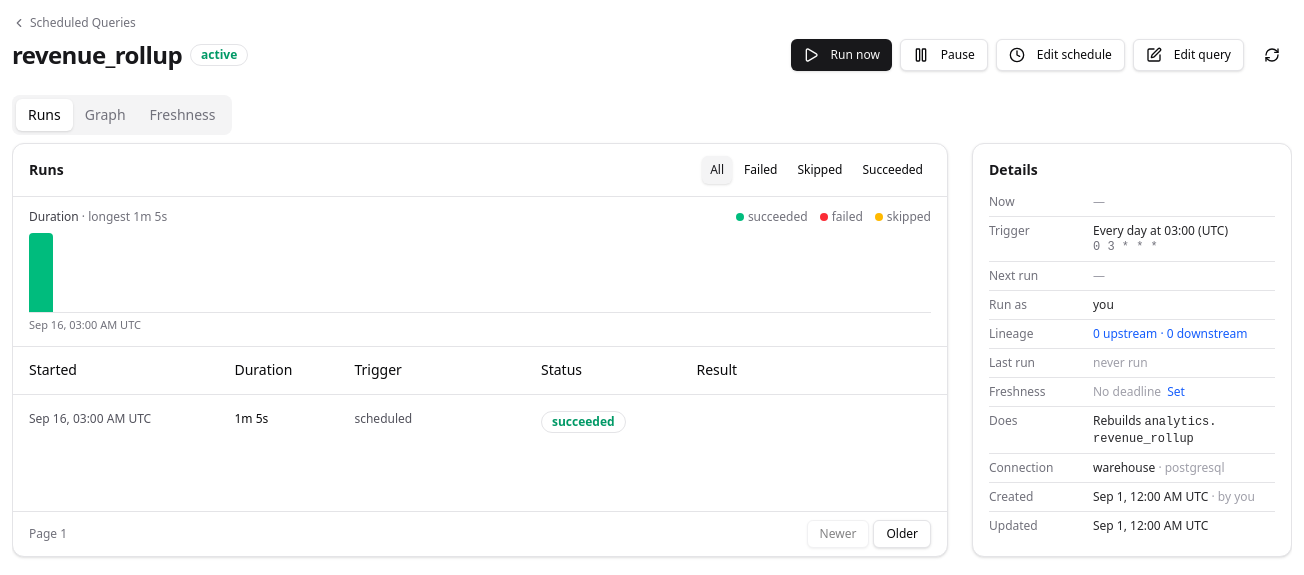
per-model schedule page › pages back with the server's cursor, and Newer returns to the first page
Click the button "Older" at (902, 534), box x1=873 y1=520 x2=931 y2=548
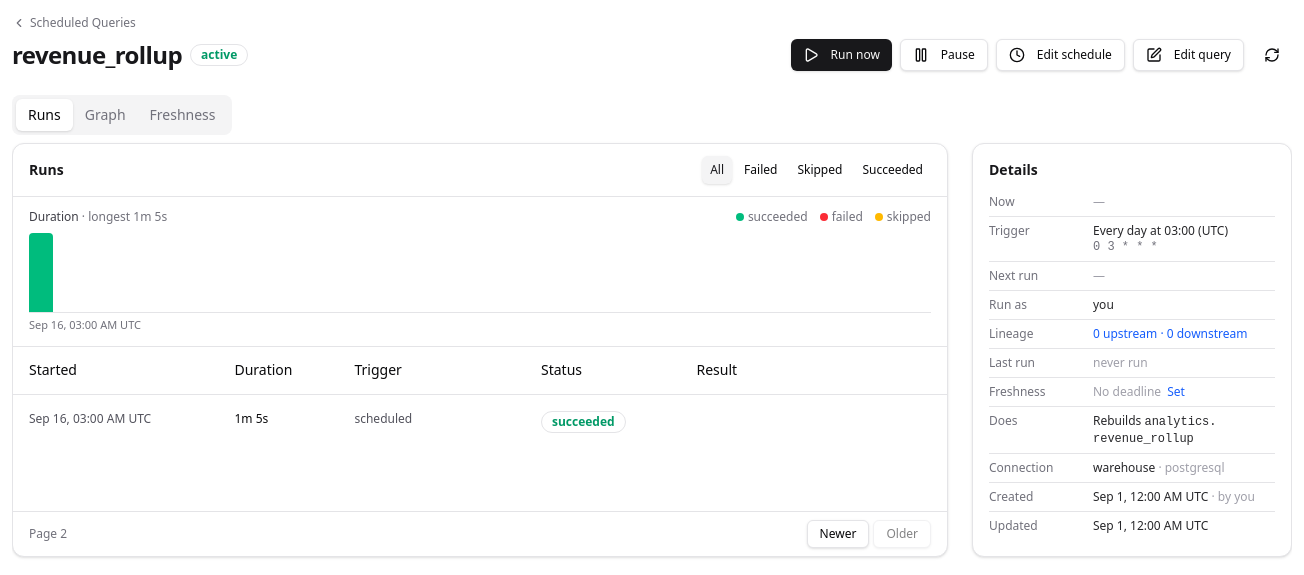
Now the text "Page 2" is shown, box x1=29 y1=526 x2=67 y2=542
Now the button "Newer" is enabled
Now the button "Older" is disabled, box x1=873 y1=520 x2=931 y2=548
Click the button "Newer" at (838, 534), box x1=807 y1=520 x2=869 y2=548
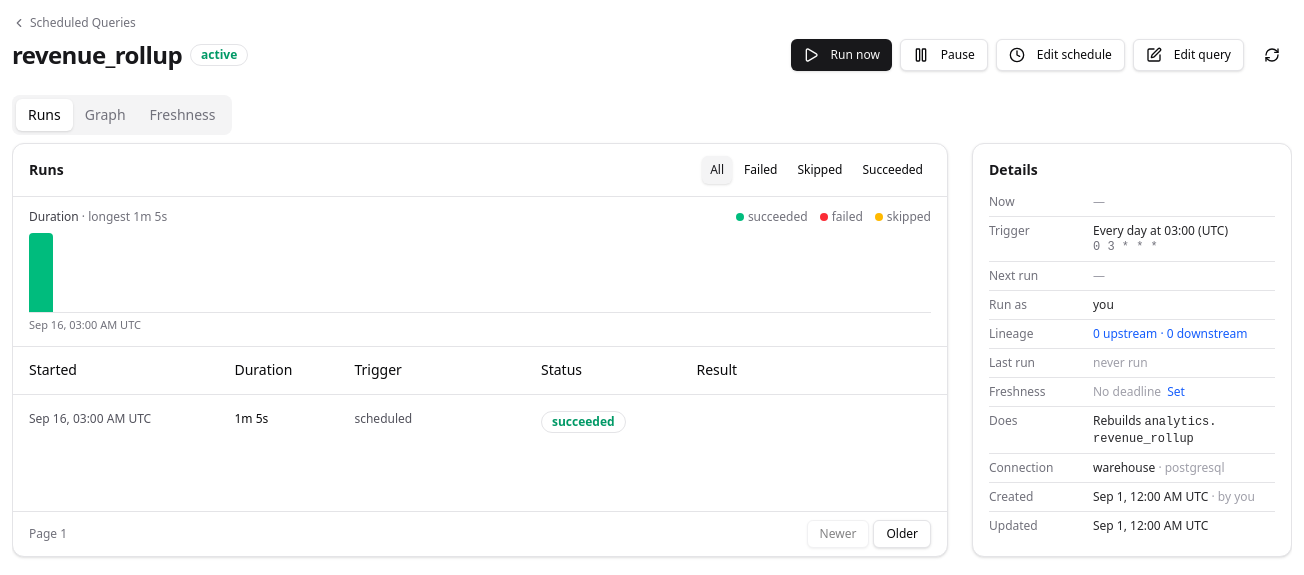
Now the text "Page 1" is shown, box x1=29 y1=526 x2=67 y2=542
